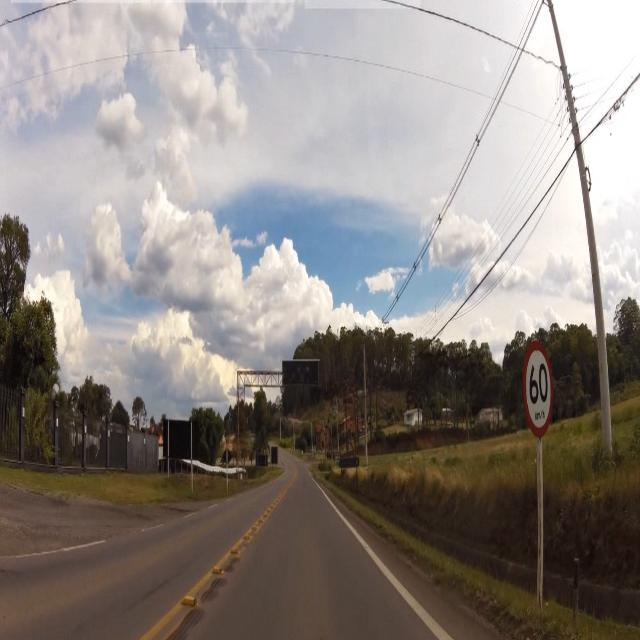R-19: (520, 338, 558, 438)
